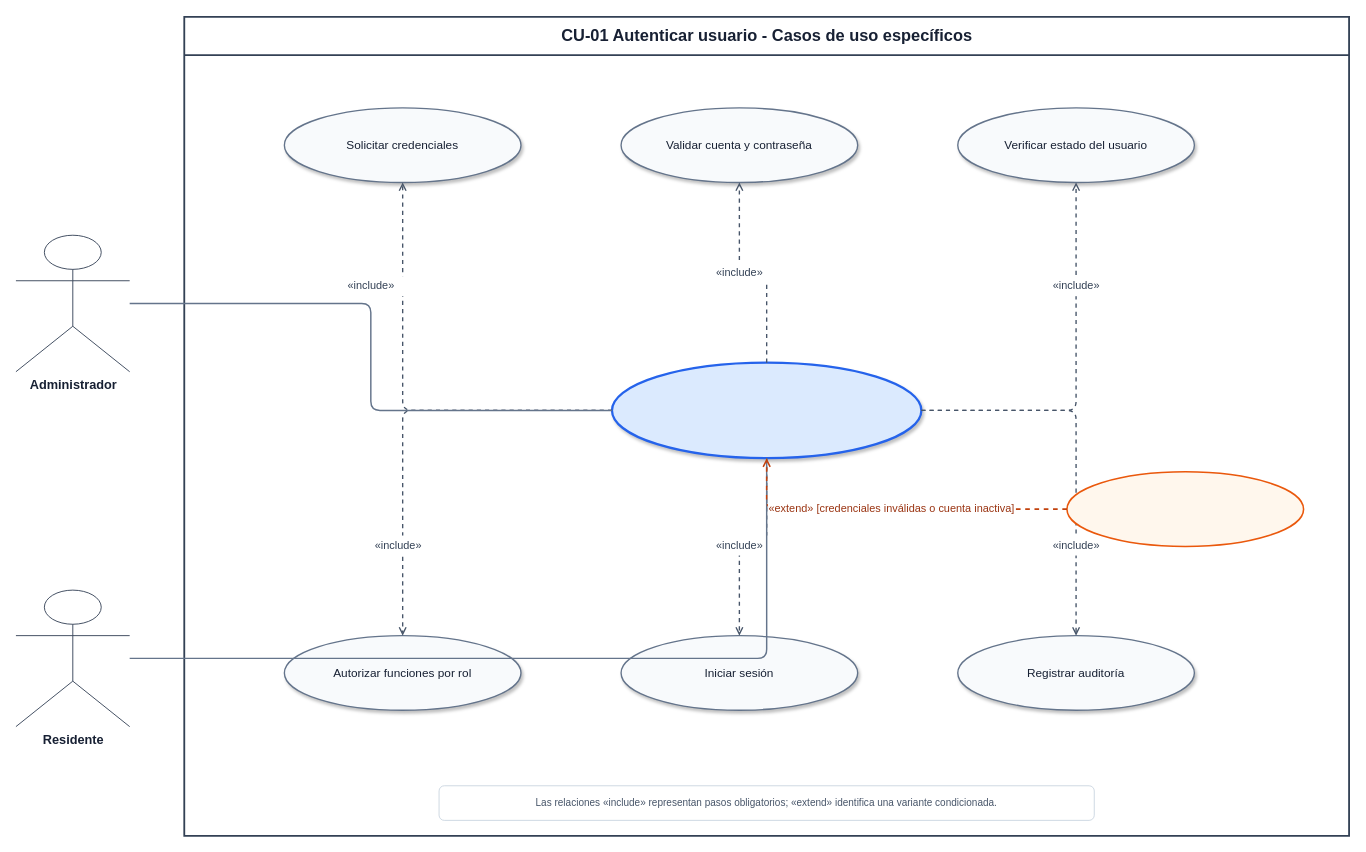
Image size: 1366x852. Some labels were removed from this diagram. Here are the shapes that lost their labels. From the top down, the centre of each, then its label:
(x=767, y=411): CU-01 Autenticar usuario
(x=1185, y=509): Rechazar acceso
